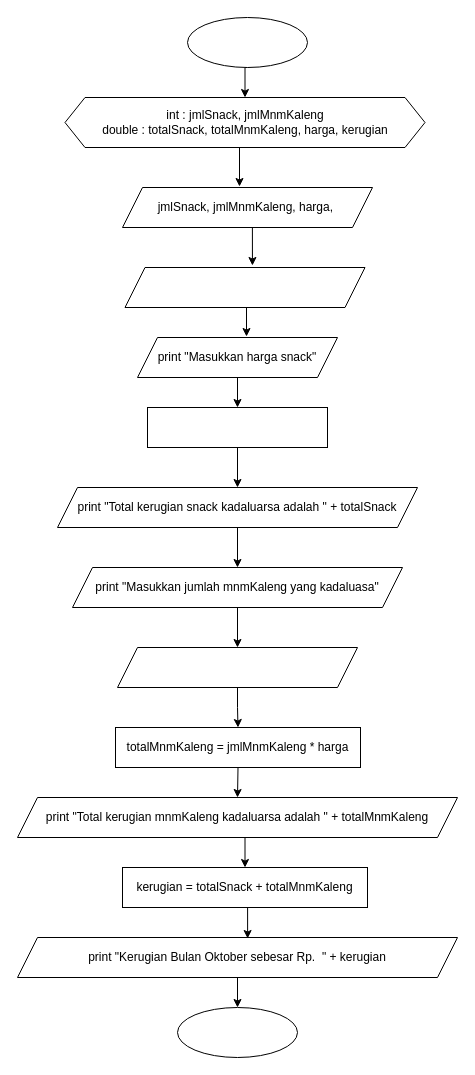
This 475x1075 diagram has some shape labels left out. The shapes that lost their labels are listed below. From the top down, each one's centre as x and y in pixels, then its label:
[247,42]: Mulai
[244,287]: print "Masukkan jumlah snack yang kadaluasa"
[237,427]: totalSnack = jmlSnack * harga
[237,667]: print "Masukkan harga mnmKaleng"
[237,1032]: Selesai
